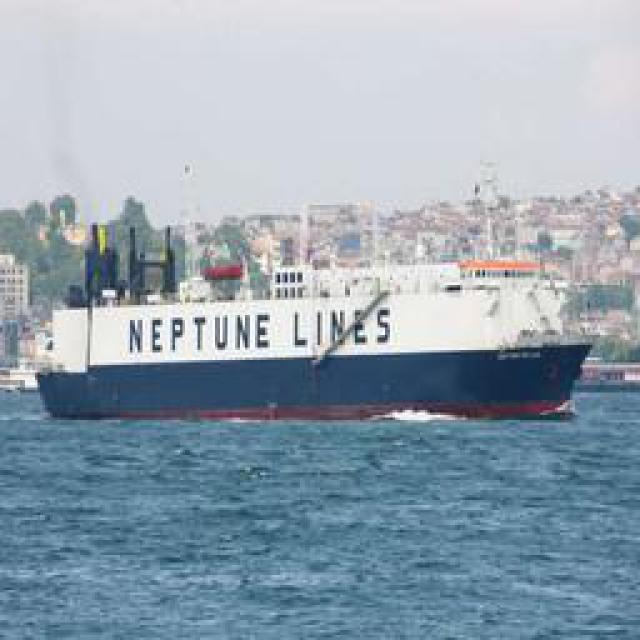Ship: (30, 234, 603, 429)
